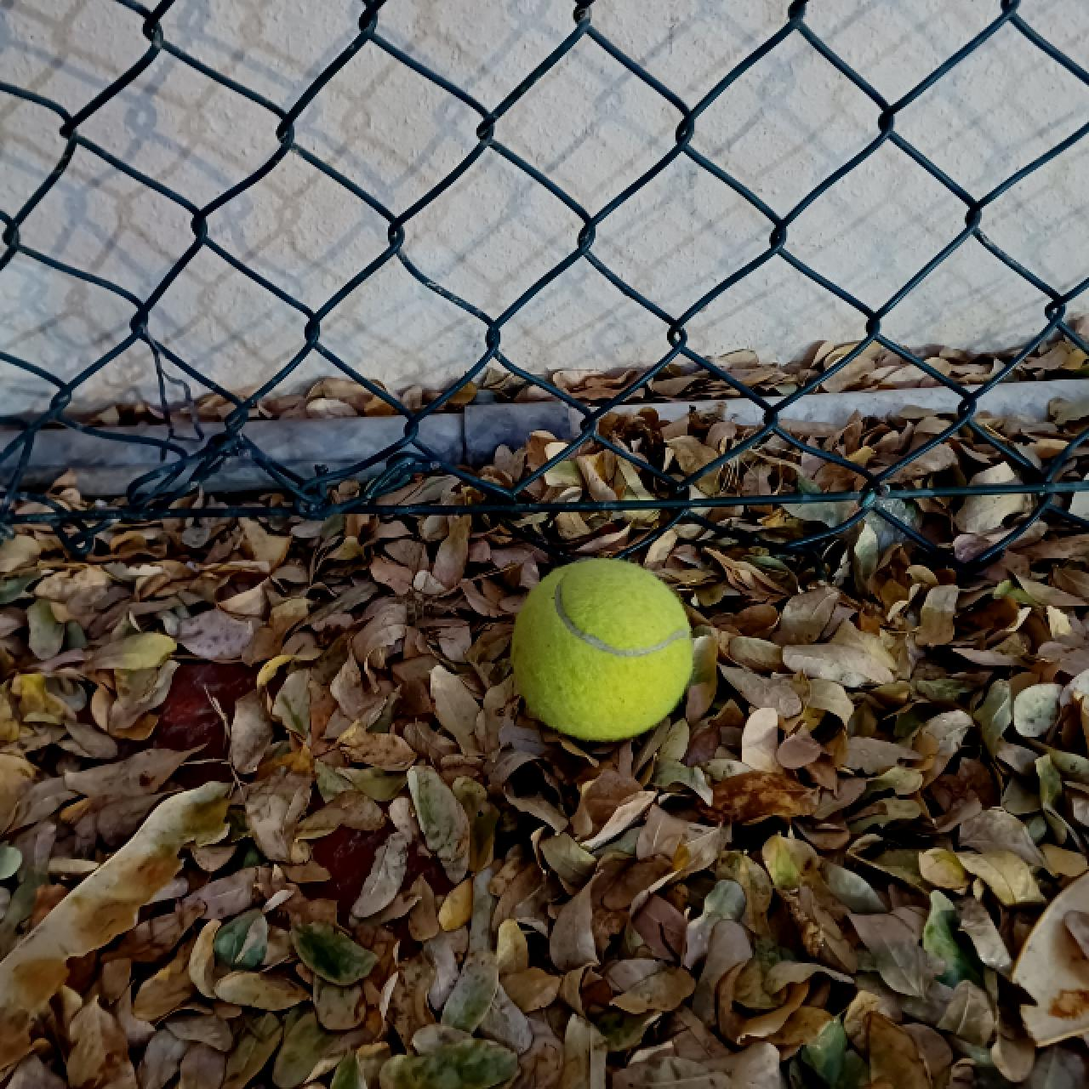tennis-ball: (509, 554, 693, 739)
